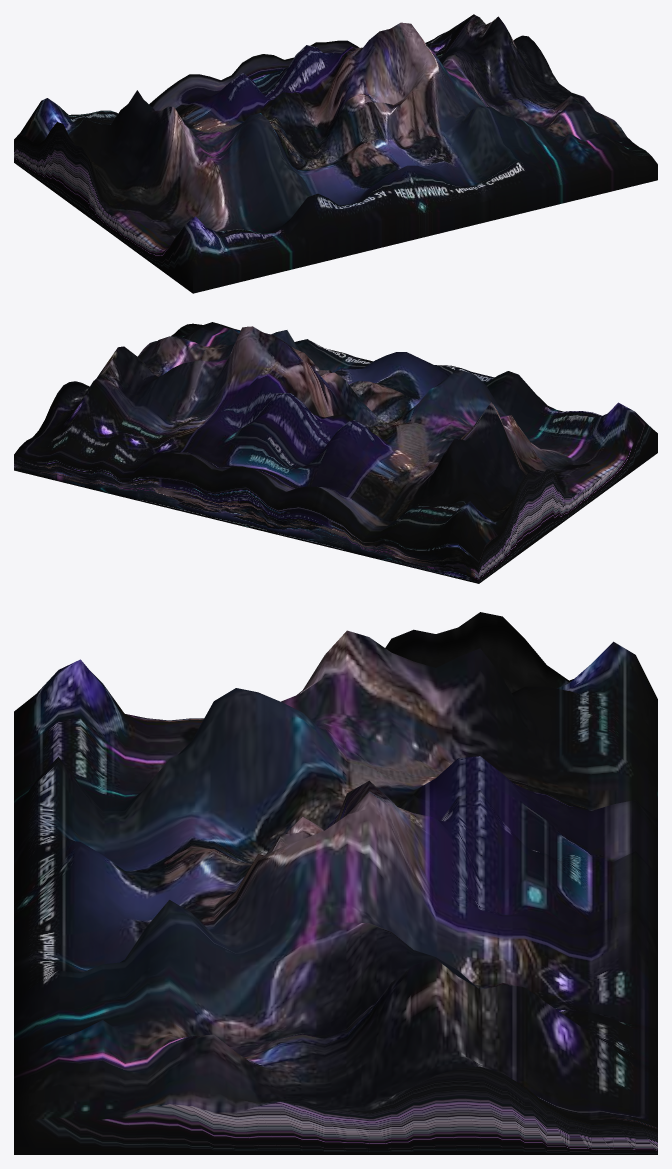
The model's file is RELATIONSHIP_24_Heir_Naming.glb.
The picture shows the model from 3 angles, top to bottom: view 1: azimuth 30°, elevation 25°; view 2: azimuth 150°, elevation 25°; view 3: azimuth 270°, elevation 25°; orthographic projection. The views are drawn at different scales.
Visible parts, largest first — view 1: RELATIONSHIP_24_Heir_Naming; view 2: RELATIONSHIP_24_Heir_Naming; view 3: RELATIONSHIP_24_Heir_Naming.
Boxes of the visible parts, bbox=[...] form: RELATIONSHIP_24_Heir_Naming: bbox=[14, 14, 657, 293]; RELATIONSHIP_24_Heir_Naming: bbox=[14, 322, 657, 583]; RELATIONSHIP_24_Heir_Naming: bbox=[14, 612, 657, 1154].
Bounding box in the file's own units: 2 × 0.51 × 1.33.
Materials: 1 (1 with a texture image).
